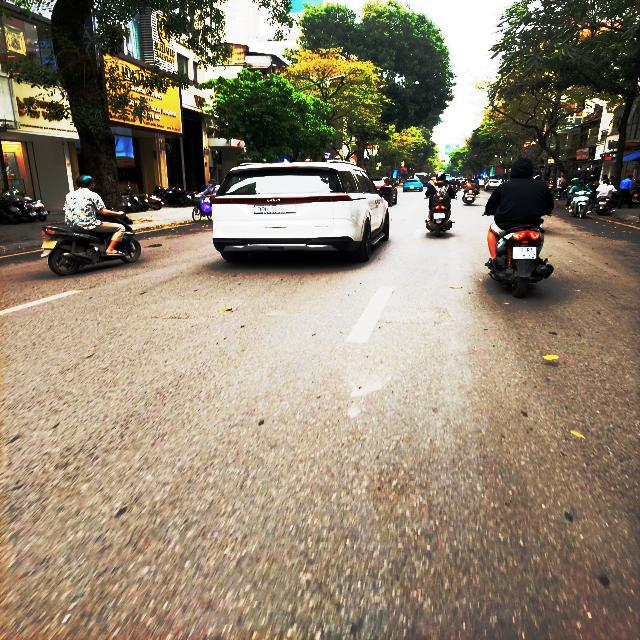license_plate: (254, 205, 298, 216), (513, 248, 539, 260)
